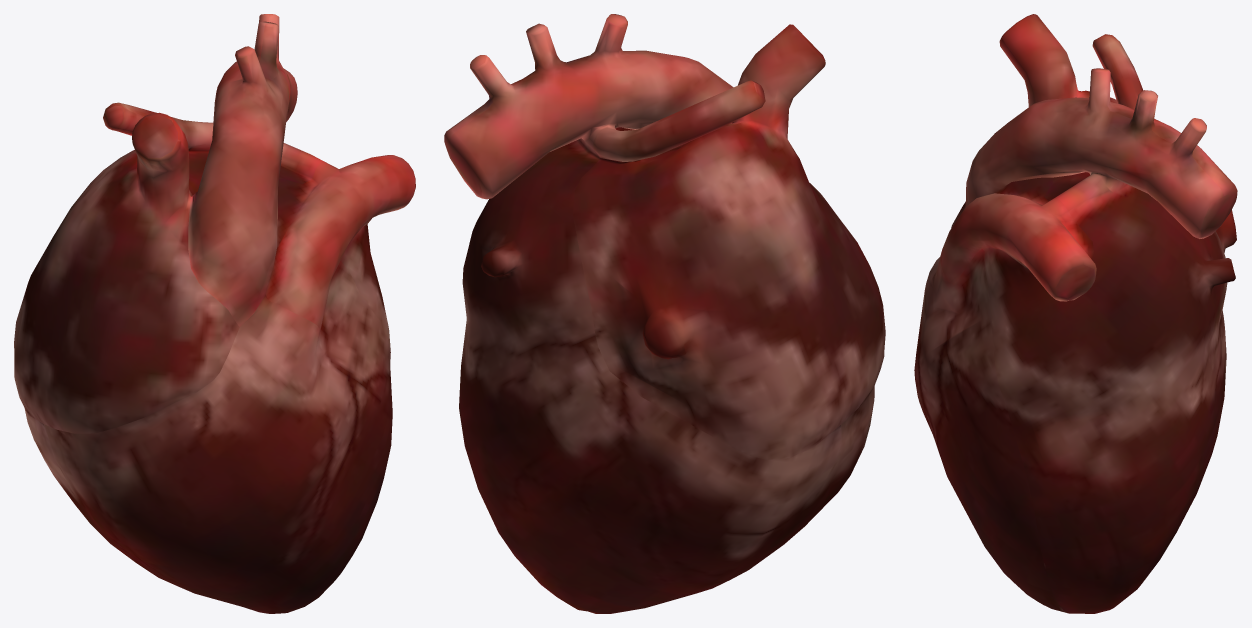
Rendered from PRP_HeartModel_lod.glb.
3 renders of one model, left to right at view 1: azimuth 30°, elevation 25°; view 2: azimuth 150°, elevation 25°; view 3: azimuth 270°, elevation 25°, orthographic. The views are drawn at different scales.
Visible parts, largest first — view 1: hart:ZBrush_defualt_group_Heart Tex_0; view 2: hart:ZBrush_defualt_group_Heart Tex_0; view 3: hart:ZBrush_defualt_group_Heart Tex_0.
Boxes of the visible parts, x1=… form: hart:ZBrush_defualt_group_Heart Tex_0: x1=14, y1=14, x2=415, y2=613; hart:ZBrush_defualt_group_Heart Tex_0: x1=444, y1=14, x2=885, y2=613; hart:ZBrush_defualt_group_Heart Tex_0: x1=914, y1=14, x2=1237, y2=613.
Size of the model in its own units: 1.08 by 1.6 by 0.8801.
Materials: 1 (1 with a texture image).
